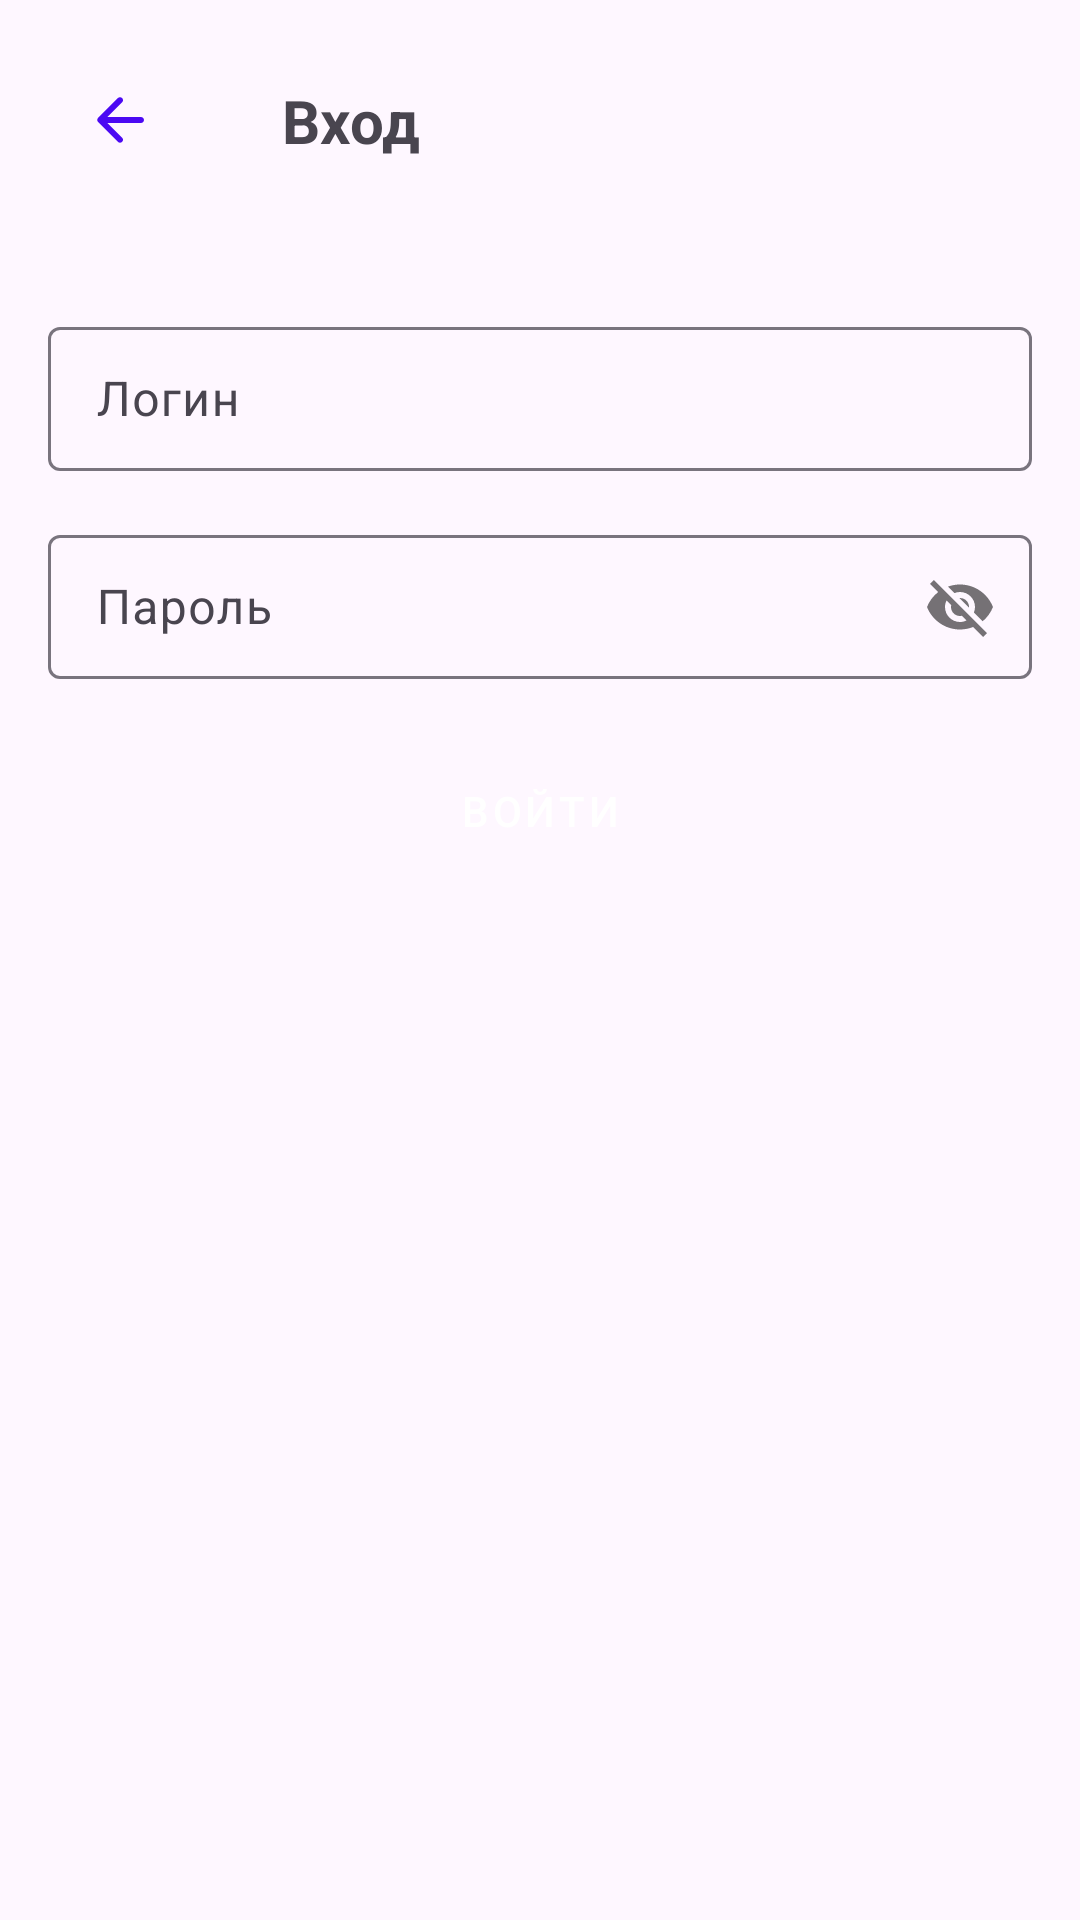

Named icons in this screenshot (1080x1920) and their bounding boxes, (x1, y1, x2, y2):
arrow: (97, 97, 144, 143)
